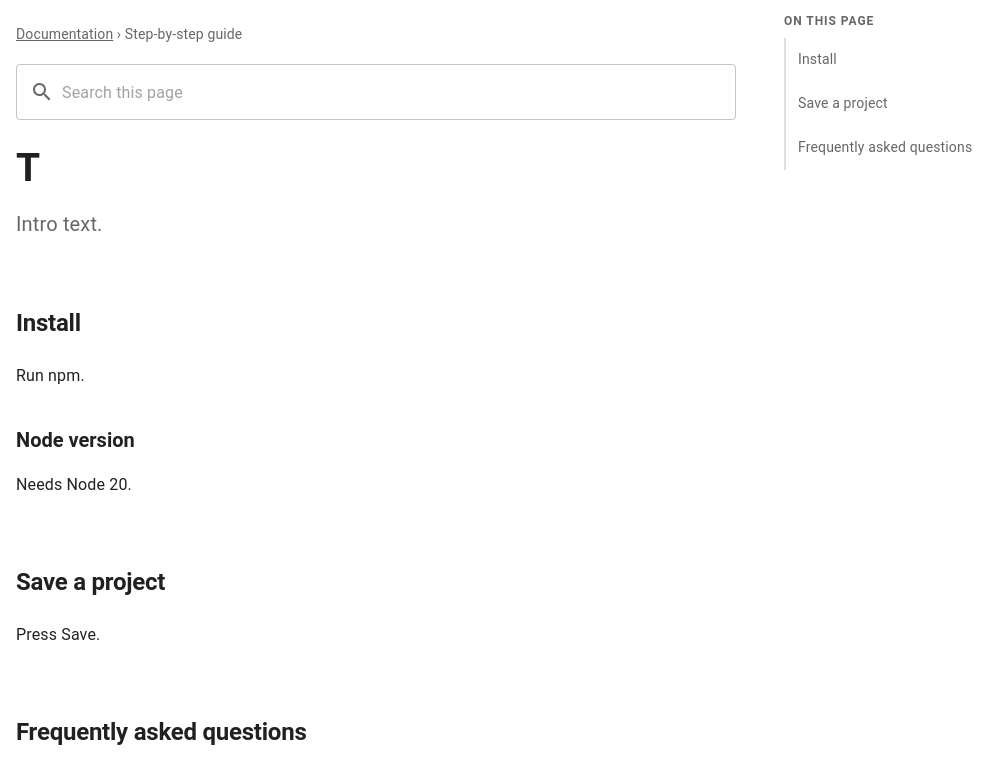
Test case: DocsPage › filters the page to the sections that match, counts them and shows everything again when cleared
Type "NPM" into the search field labelled "Search this page" at (399, 92), box top-left (62, 64), bottom-right (736, 120)
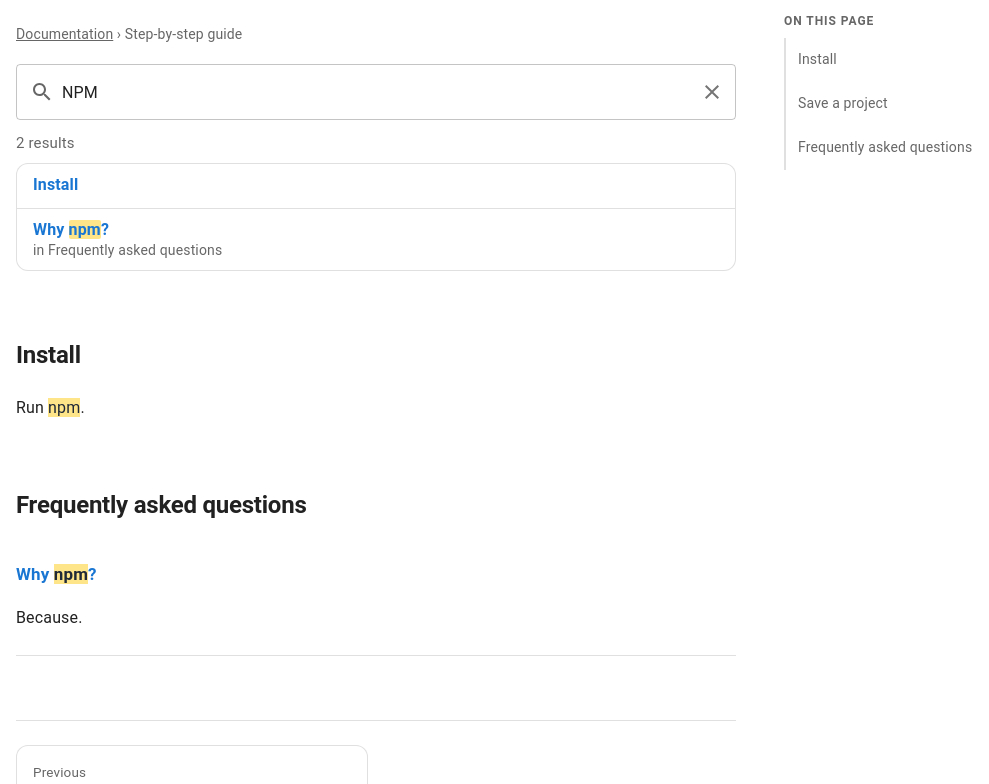
Expected: the text "2 results" is shown, top-left (16, 134), bottom-right (75, 152)
Replace the text in the search field named "Search this page" with "nothing-like-this" at (372, 92), box top-left (62, 64), bottom-right (682, 120)
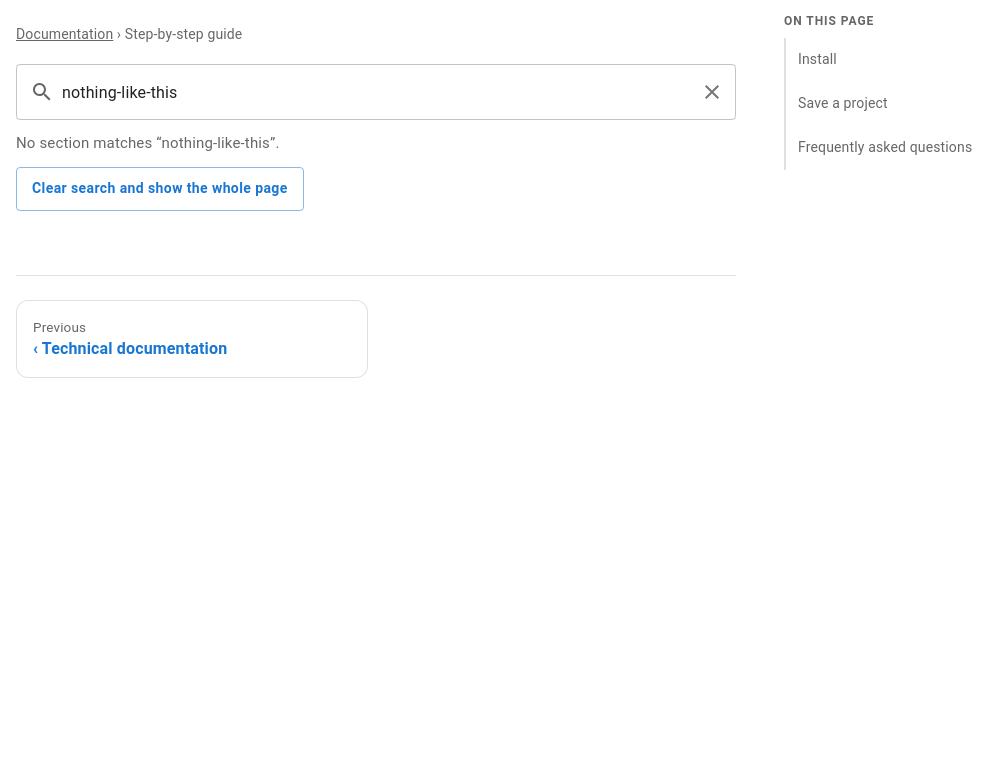
Expected: the text "No section matches “nothing-like-this”." is shown, top-left (16, 134), bottom-right (280, 152)
Click the button "Clear search and show the whole page" at (160, 188), box top-left (16, 166), bottom-right (304, 210)
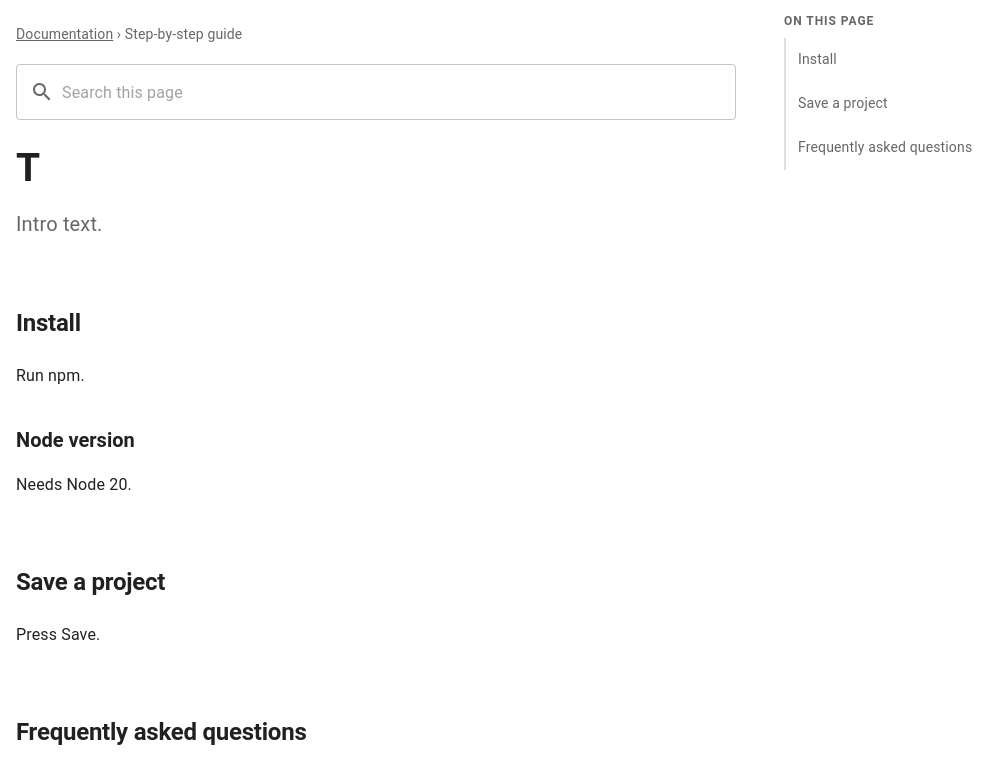
Expected: the search field labelled "Search this page" is empty, top-left (62, 64), bottom-right (736, 120)
